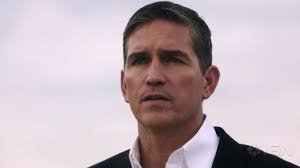noMask: (109, 3, 237, 127)
